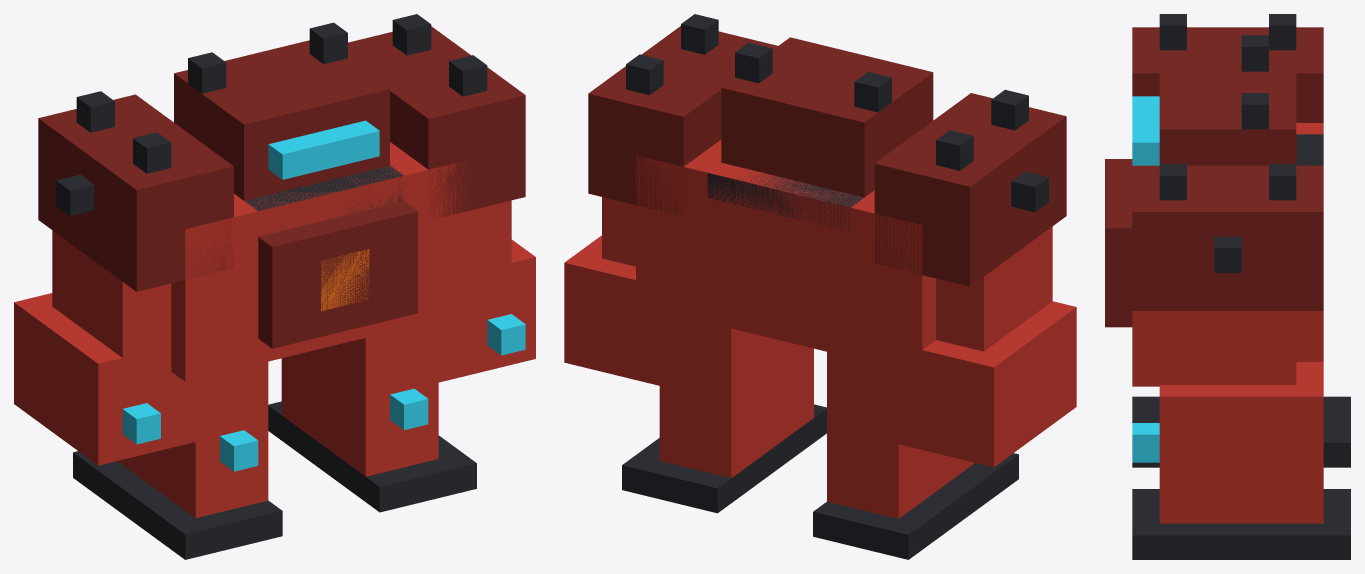
File: mech_boss.glb
3 renders of one model, left to right at view 1: azimuth 30°, elevation 25°; view 2: azimuth 150°, elevation 25°; view 3: azimuth 270°, elevation 25°, orthographic. The views are drawn at different scales.
Visible parts, largest first — view 1: Torso mesh, Pauldron L mesh, Fist L mesh, Head mesh, Leg R mesh, Pauldron R mesh, Chest mesh, Feet mesh, Leg L mesh, Arm L mesh, Fist R mesh, Spike mesh (+5 smaller); view 2: Torso mesh, Pauldron L mesh, Head mesh, Leg R mesh, Fist L mesh, Pauldron R mesh, Feet mesh, Leg L mesh, Fist R mesh, Arm L mesh, Spike mesh, Belt mesh (+2 smaller); view 3: Pauldron R mesh, Fist R mesh, Head mesh, Feet mesh, Arm R mesh, Pauldron L mesh, Spike mesh, Leg R mesh, Chest mesh, Torso mesh, Horn mesh, Visor mesh (+1 smaller).
Part boxes in pixels (x1,y1,x2,y2): Torso mesh: (171, 142, 476, 381); Pauldron L mesh: (38, 94, 233, 291); Fist L mesh: (14, 293, 195, 465); Head mesh: (174, 40, 389, 200); Leg R mesh: (281, 320, 438, 476); Pauldron R mesh: (348, 26, 525, 219); Chest mesh: (258, 201, 417, 348); Feet mesh: (73, 401, 476, 559); Leg L mesh: (117, 361, 268, 518); Arm L mesh: (52, 230, 171, 382); Fist R mesh: (438, 239, 535, 382); Spike mesh: (56, 14, 487, 215); Torso mesh: (636, 139, 935, 374); Pauldron L mesh: (874, 93, 1066, 286); Head mesh: (721, 37, 933, 197); Leg R mesh: (659, 311, 813, 478); Fist L mesh: (898, 301, 1076, 467); Pauldron R mesh: (588, 26, 777, 215); Feet mesh: (622, 404, 1018, 559); Leg L mesh: (827, 352, 974, 518); Fist R mesh: (564, 235, 659, 385); Arm L mesh: (936, 226, 1052, 351); Spike mesh: (626, 14, 1048, 212); Belt mesh: (707, 170, 863, 231); Pauldron R mesh: (1132, 165, 1323, 310); Fist R mesh: (1132, 362, 1323, 495); Head mesh: (1159, 60, 1296, 165); Feet mesh: (1132, 396, 1350, 559); Arm R mesh: (1159, 311, 1296, 384); Pauldron L mesh: (1132, 27, 1323, 122); Spike mesh: (1159, 14, 1296, 272); Leg R mesh: (1132, 459, 1323, 523); Chest mesh: (1105, 159, 1132, 327); Torso mesh: (1132, 123, 1323, 386); Horn mesh: (1241, 35, 1268, 129); Visor mesh: (1132, 96, 1159, 165).
Size of the model in its own units: 18 by 17 by 9.
1 material, 1 textured.
